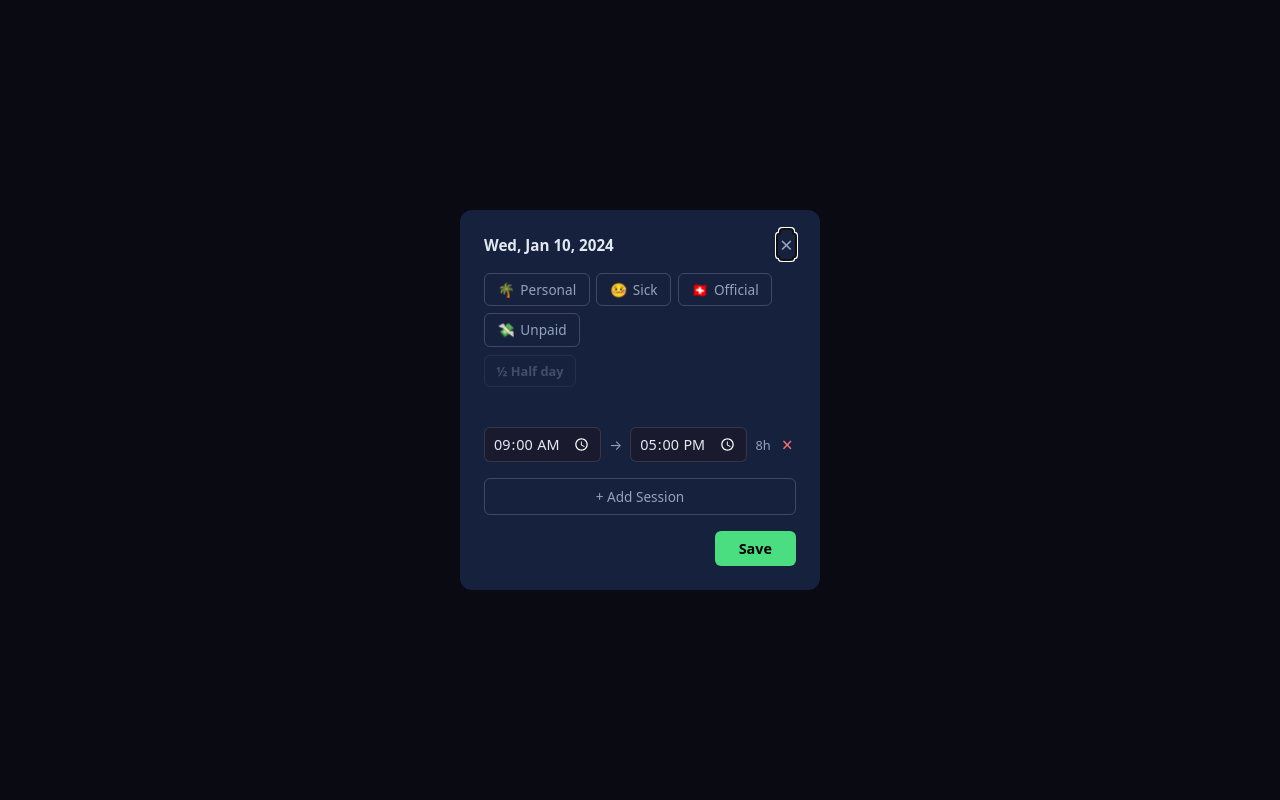
Test: DayEditModal › validation › shows the computed duration and a next-day marker while editing
Replace the text in the time field named "Check-in time" with "23:00" at (543, 445), box [484, 427, 601, 462]
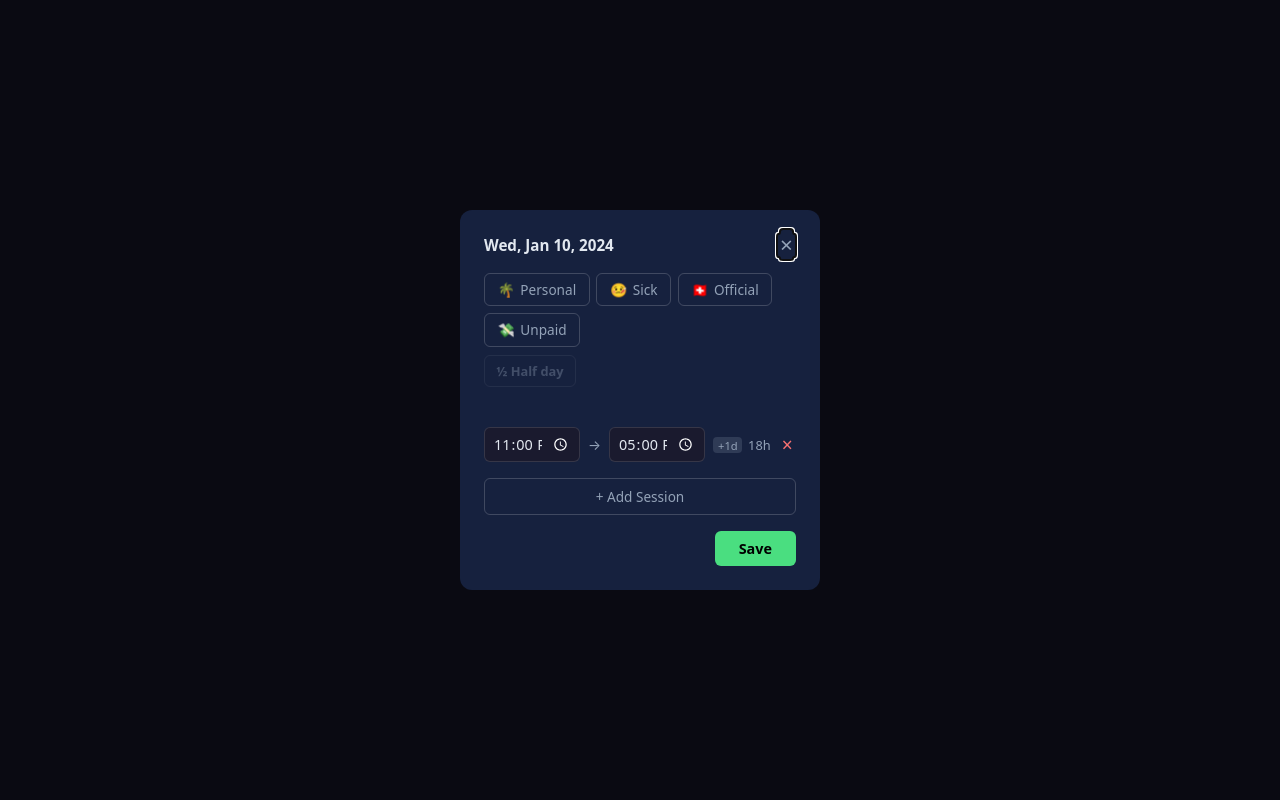
Replace the text in the time field named "Check-out time" with "01:00" at (657, 445), box [609, 427, 705, 462]
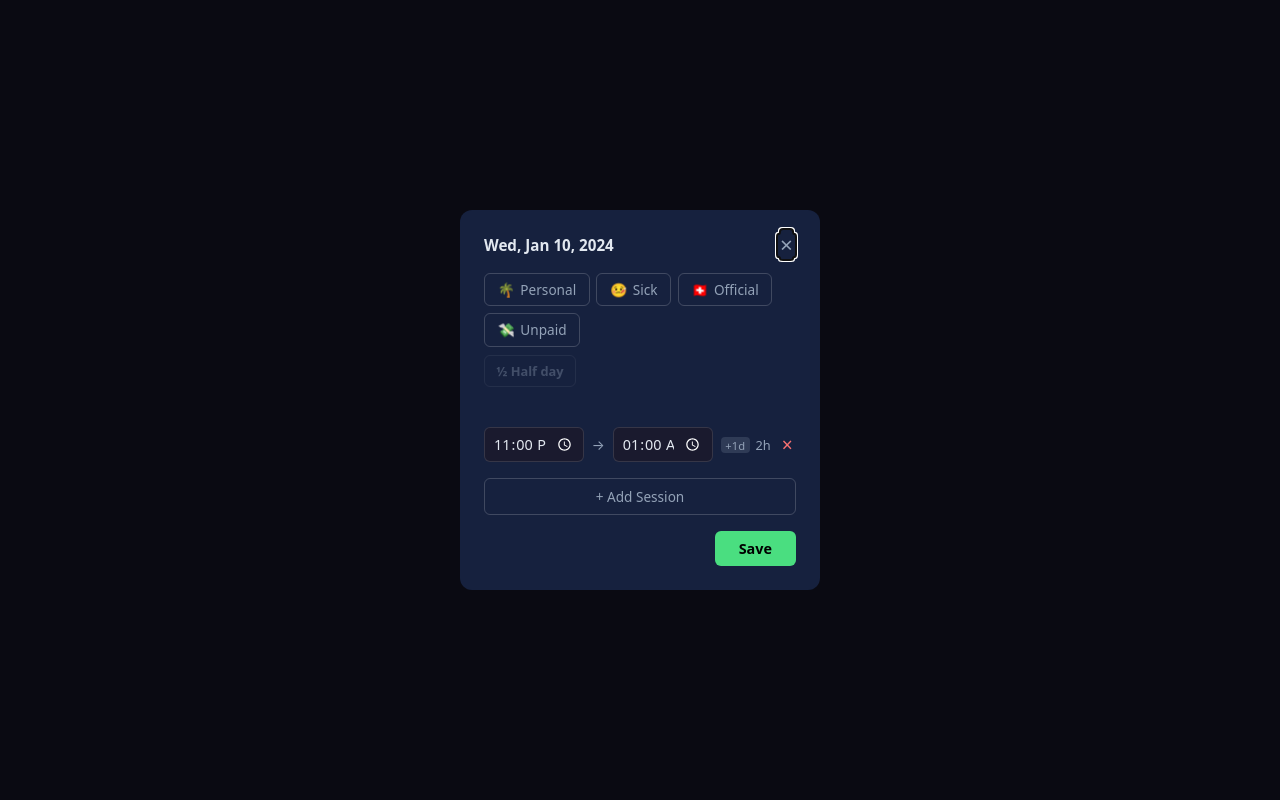
Expected: the text "+1d" is shown, [720, 437, 750, 453]
Expected: the text "2h" is shown, [755, 436, 771, 454]
